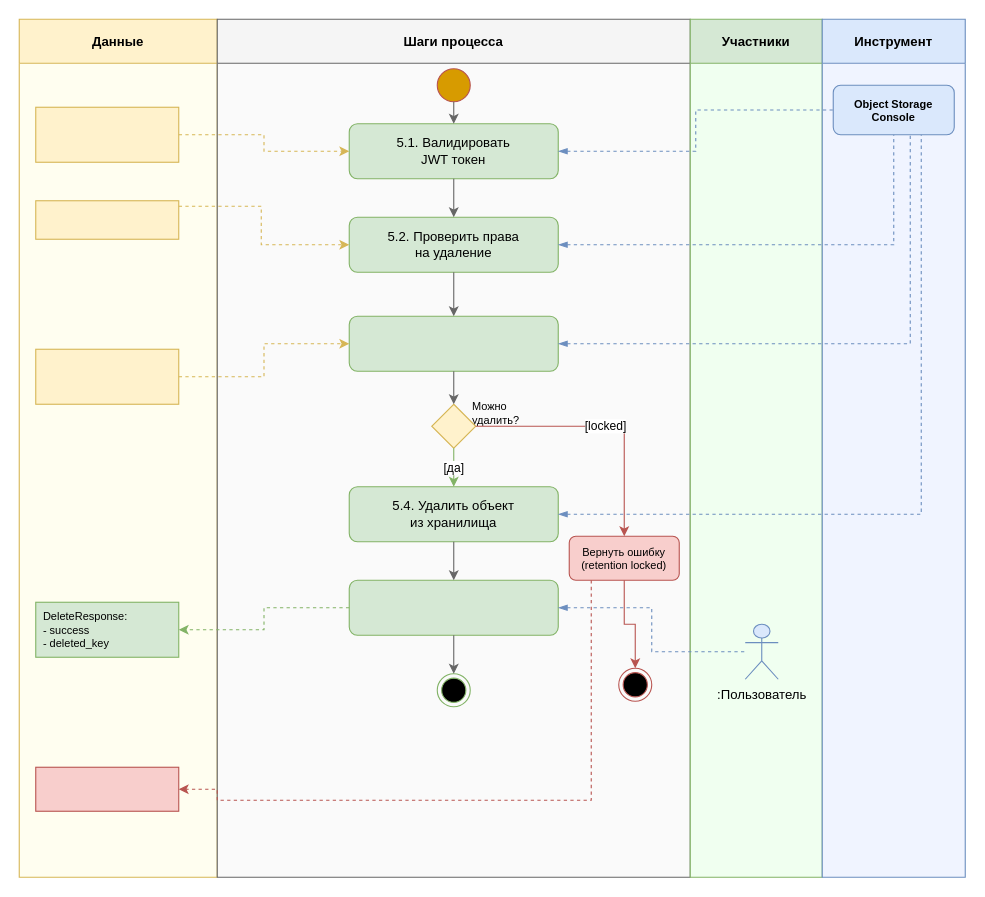
Some shapes in this 985 by 897 pixel diagram are drawn without their labels. Here are the shapes that lost their labels. From the top down, the centre of each, then its label:
At pixel 107 134: "DeleteRequest: - bucket - key".
At pixel 107 219: "JWT Token".
At pixel 453 343: "5.3. Проверить retention политику".
At pixel 107 376: "RetentionPolicy: - mode - until_date".
At pixel 453 607: "5.5. Вернуть подтверждение".
At pixel 107 788: "Error: retention locked".
